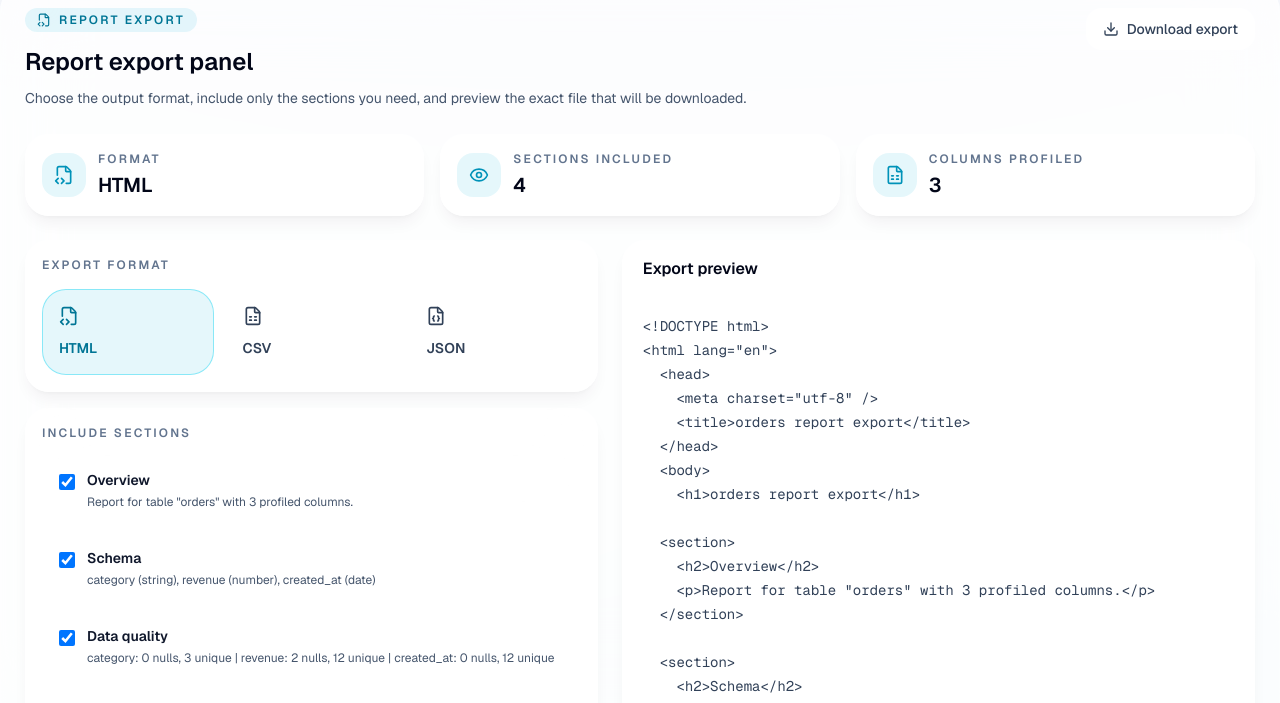
ReportExportPanel › switches to the JSON preview format
The image size is (1280, 703).
Click the button "JSON".
click(495, 332)  # box [409, 289, 581, 375]
(page scrolled)
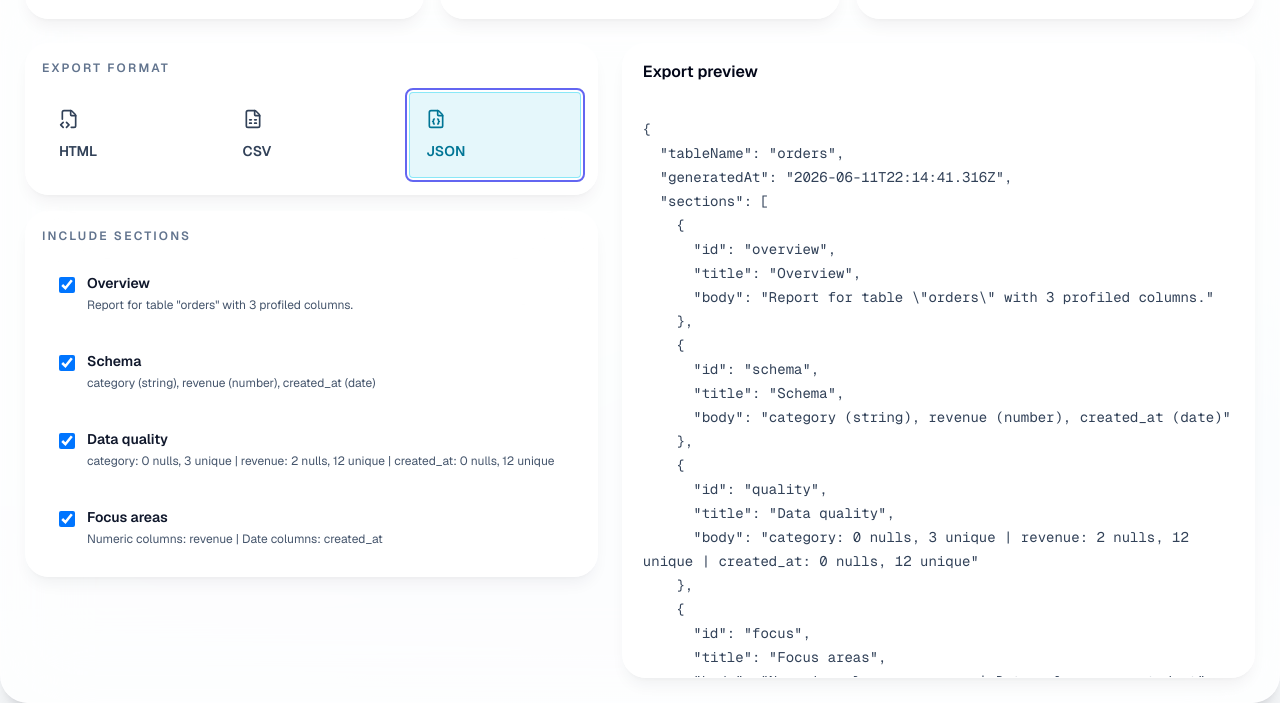
Expected: the text named "Export preview" shows "\"tableName\": \"orders\"", [643, 120, 1231, 678]
Expected: the text named "Export preview" shows "\"title\": \"Schema\"", [643, 120, 1231, 678]
